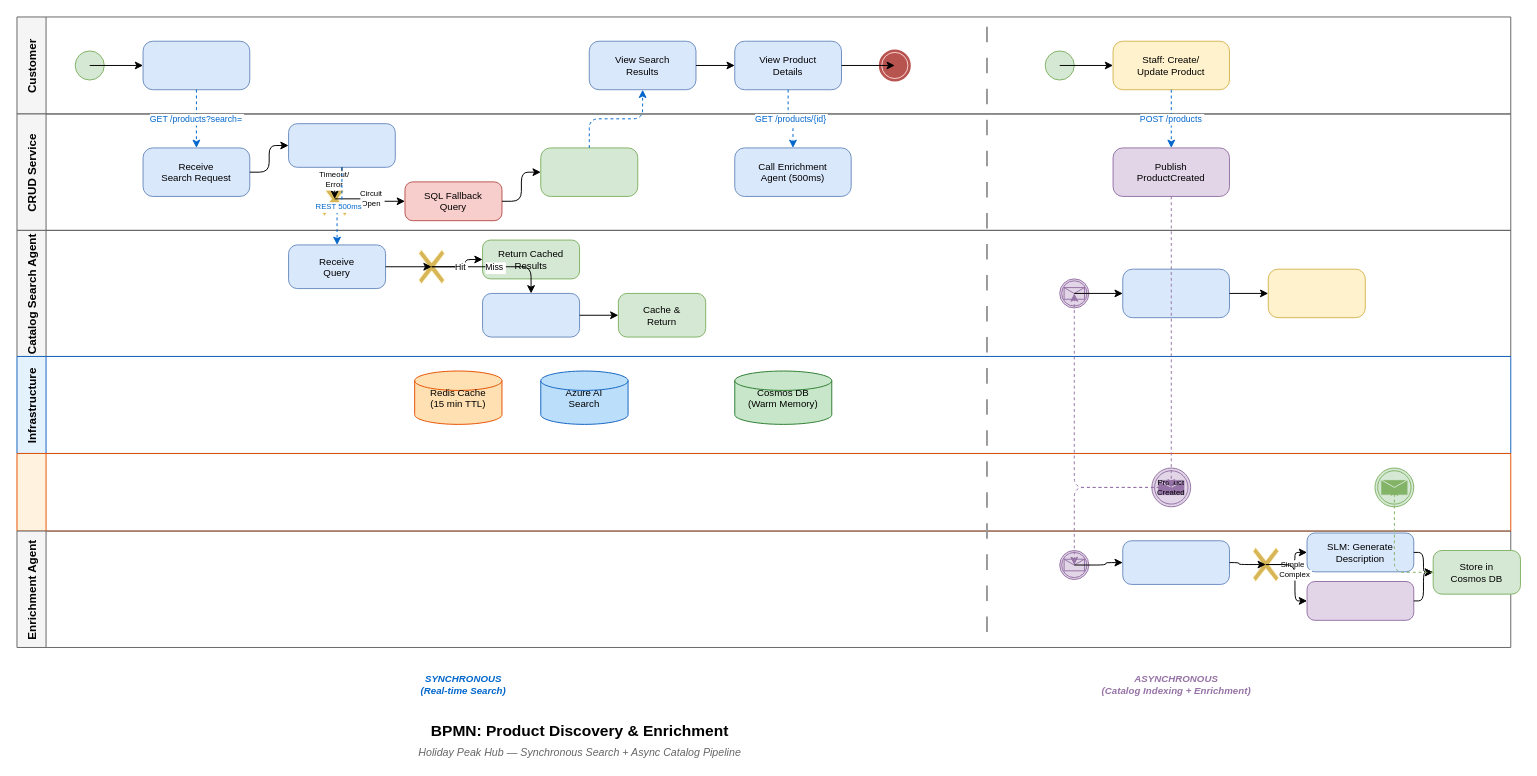
Image size: 1537x776. Some labels were removed from this diagram. The shapes that lost their labels are listed below. From the top down, each one's box as (x1, y1, x2, y2) in pixels, then its label:
(142, 40, 250, 90): Enter Search Query
(288, 123, 395, 167): Call Catalog Search Agent
(540, 147, 638, 196): Return Results
(1122, 268, 1229, 318): Update Search Index
(1267, 268, 1365, 318): Invalidate Cache
(482, 292, 580, 337): Query AI Search
(16, 453, 1511, 531): Event Hubs
(1374, 467, 1414, 507): Product Enriched
(1122, 540, 1229, 584): Fetch Base Product Data
(1306, 581, 1414, 620): LLM: Complex Enrichment
